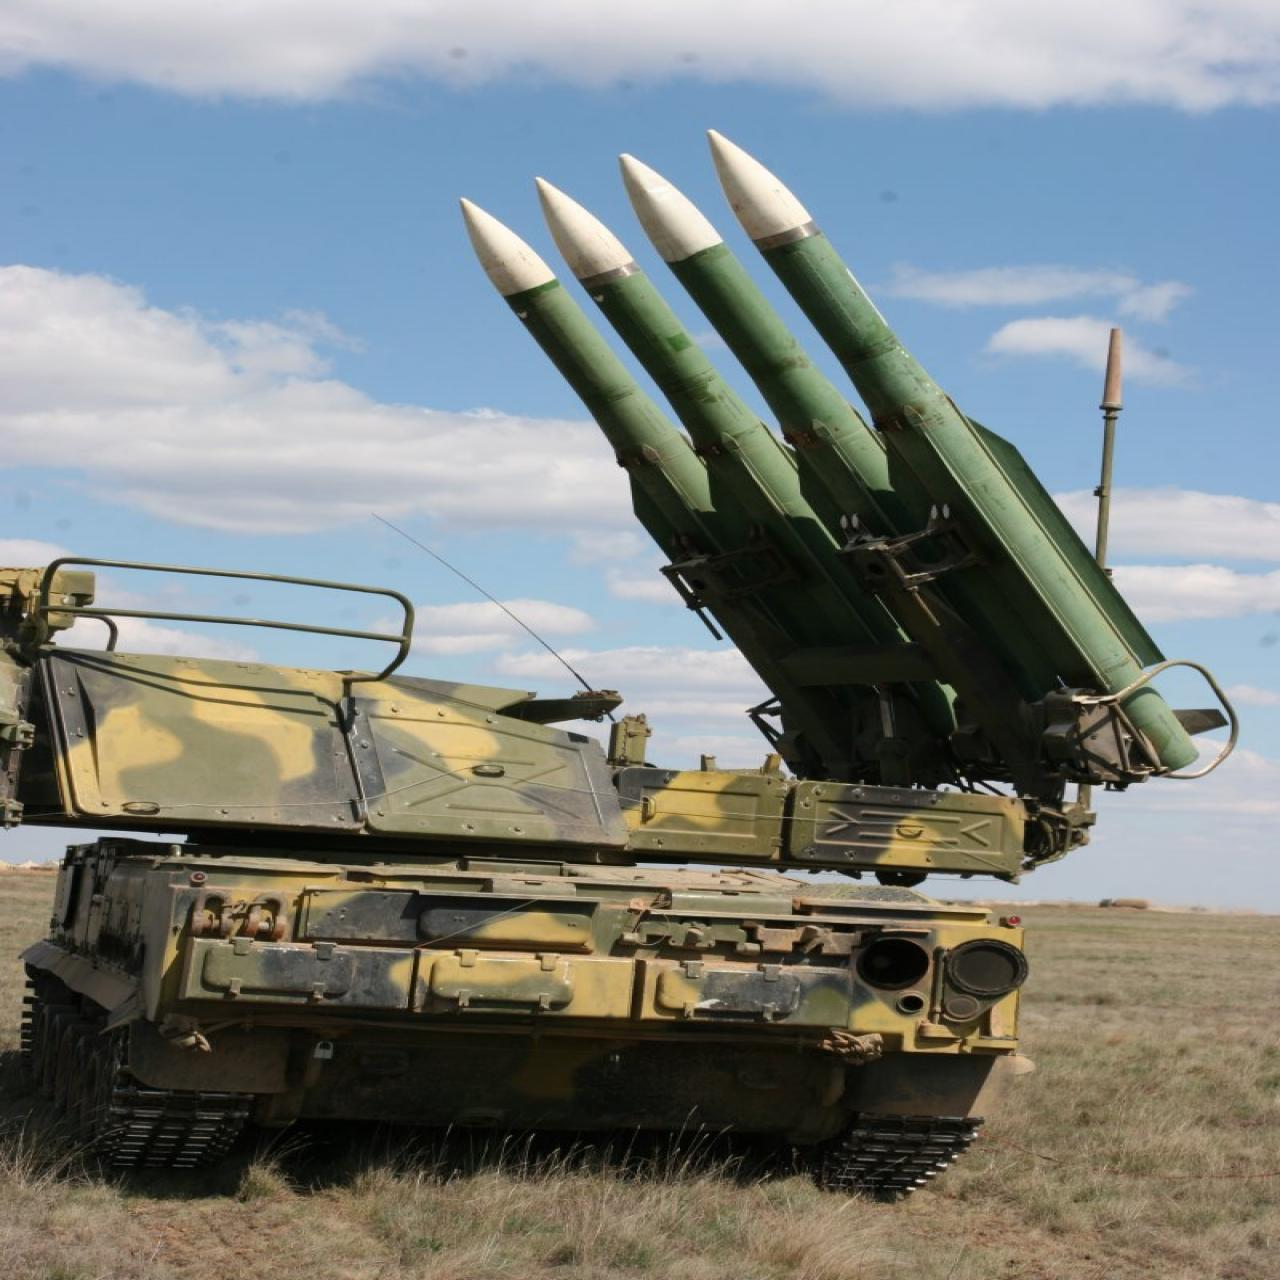MIL_Veh: (5, 141, 1200, 1200)
